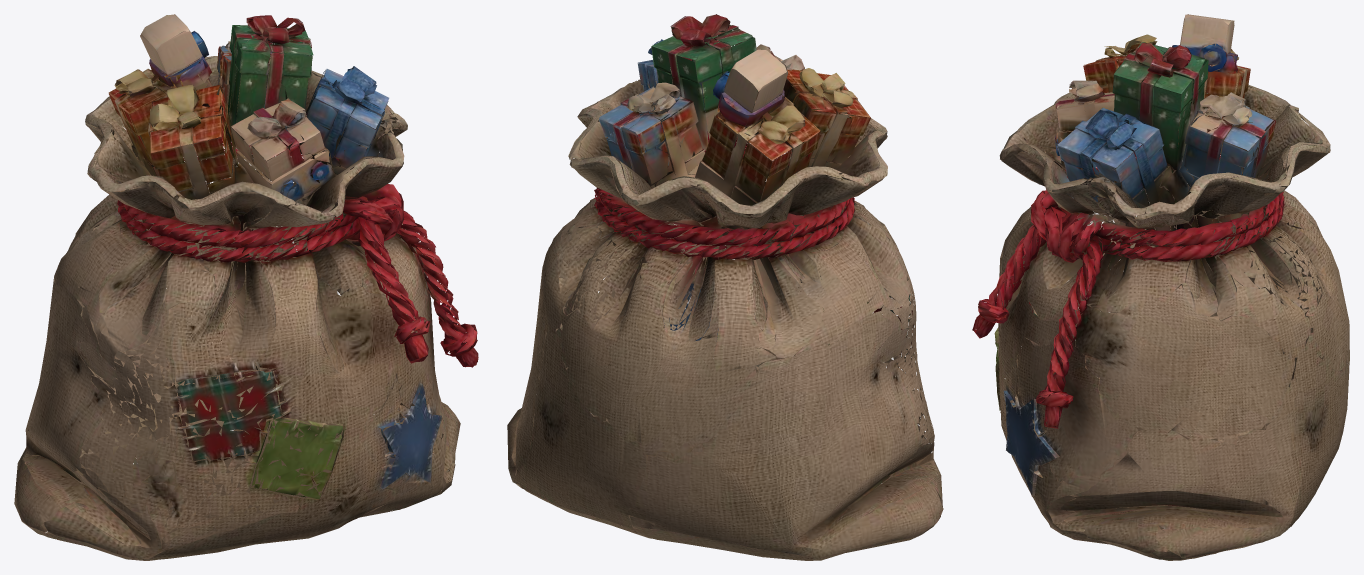
File: sack.glb
3 renders of one model, left to right at view 1: azimuth 30°, elevation 25°; view 2: azimuth 150°, elevation 25°; view 3: azimuth 270°, elevation 25°, orthographic. The views are drawn at different scales.
Visible parts, largest first — view 1: Sack; view 2: Sack; view 3: Sack.
Part boxes in pixels (box(x1,y1,x2,y2)): Sack: box(14, 14, 478, 560); Sack: box(507, 14, 943, 560); Sack: box(972, 14, 1349, 560).
Size of the model in its own units: 0.5266 by 0.5499 by 0.4305.
1 material, 1 textured.
